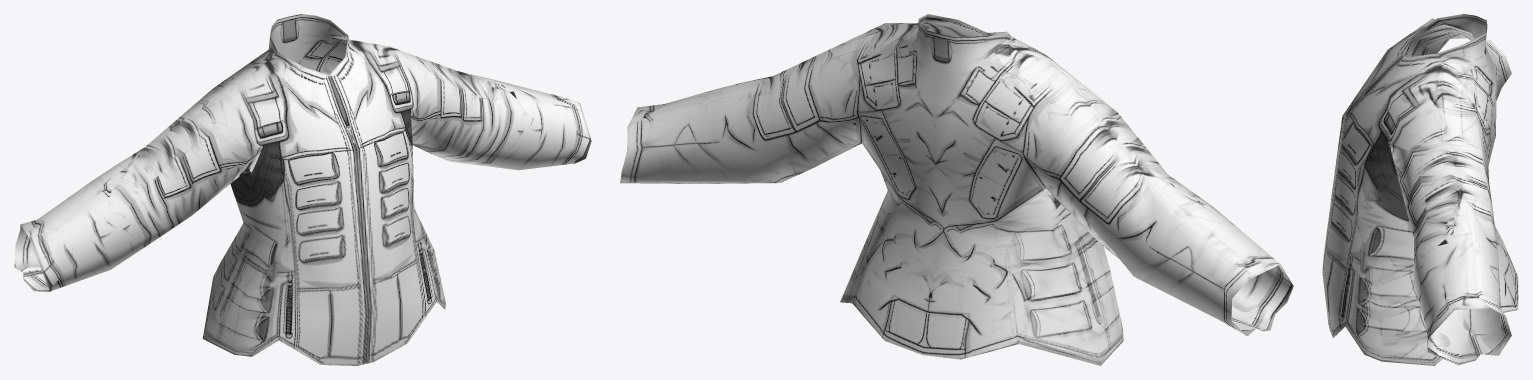
Rendered from FlakJacket.glb.
3 renders of one model, left to right at view 1: azimuth 30°, elevation 25°; view 2: azimuth 150°, elevation 25°; view 3: azimuth 270°, elevation 25°, orthographic. The views are drawn at different scales.
Parts seen in each view (by area): view 1: FlakJacket; view 2: FlakJacket; view 3: FlakJacket.
Part boxes in pixels (x1,y1,x2,y2): FlakJacket: (14,14,591,365); FlakJacket: (620,14,1293,365); FlakJacket: (1322,14,1518,365).
Size of the model in its own units: 16.52 by 8.34 by 4.95.
Materials: 1 (1 with a texture image).
